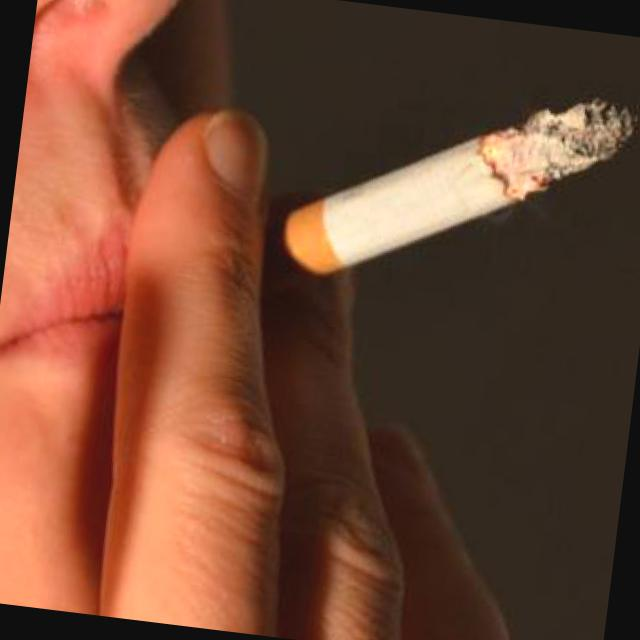smoke: (271, 92, 640, 310)
